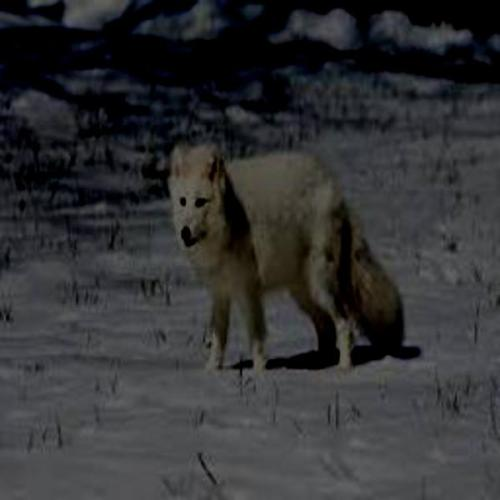arctic_fox-endangered: (170, 145, 406, 378)
